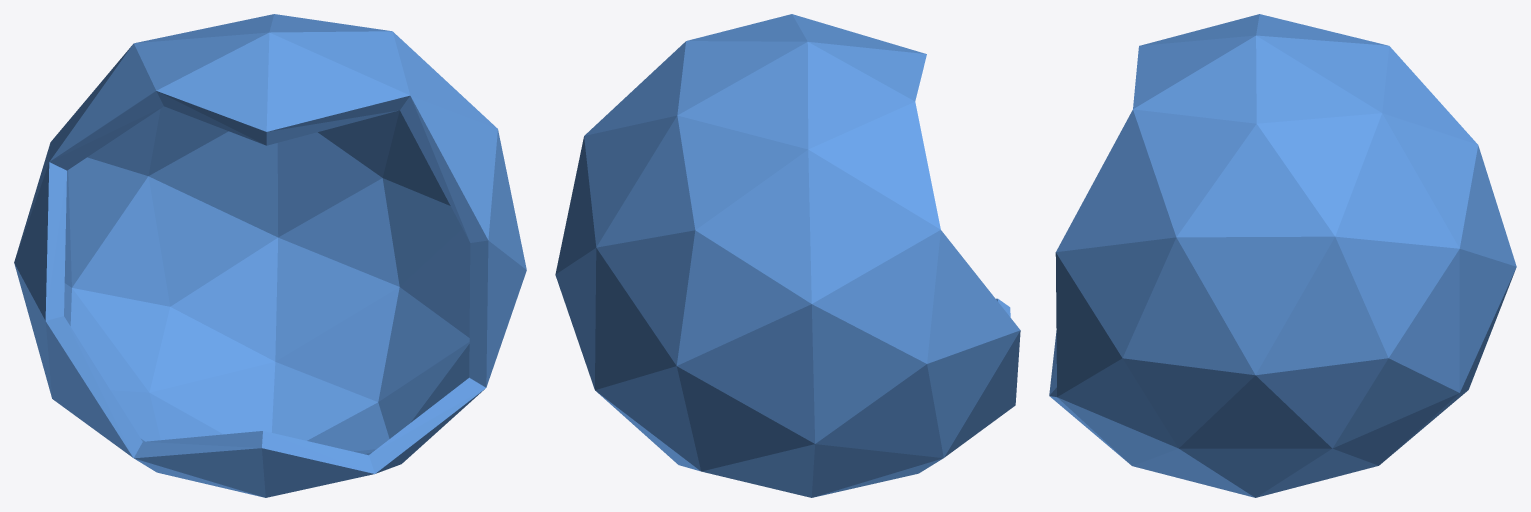
Rendered from Cell_03_open.fbx.
3 views of the same model, side by side, from view 1: azimuth 30°, elevation 25°; view 2: azimuth 150°, elevation 25°; view 3: azimuth 270°, elevation 25° (orthographic).
Parts seen in each view (by area): view 1: Cell_03_open; view 2: Cell_03_open; view 3: Cell_03_open.
Boxes of the visible parts, x1=… form: Cell_03_open: x1=14, y1=14, x2=526, y2=497; Cell_03_open: x1=555, y1=14, x2=1020, y2=497; Cell_03_open: x1=1049, y1=14, x2=1516, y2=497.
Size of the model in its own units: 387 by 372 by 358.
